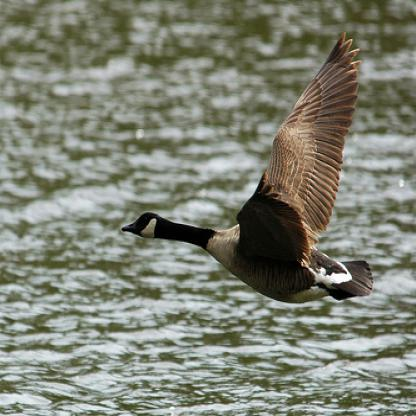bird: (120, 31, 372, 303)
